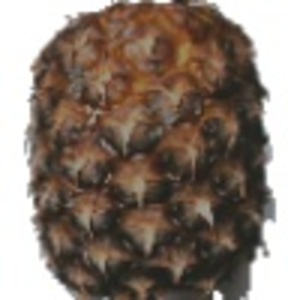abacaxi: (19, 3, 281, 295)
